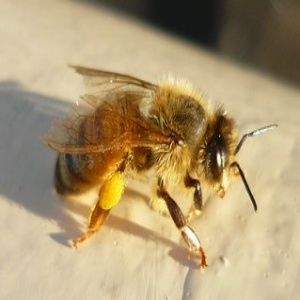bee: (43, 62, 284, 280)
